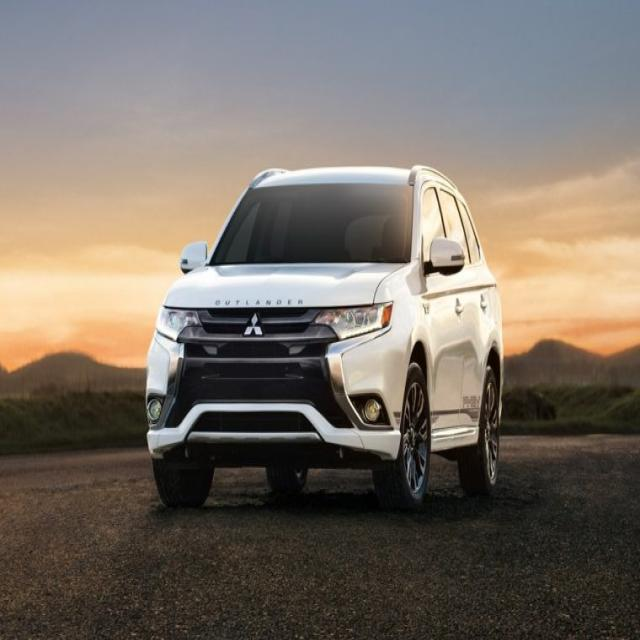light_vehicle: (144, 164, 505, 512)
